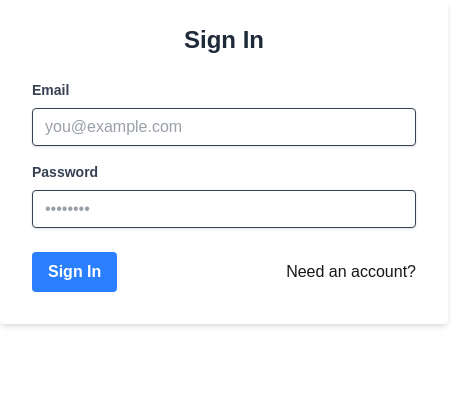
Test case: LoginForm › Error Handling › displays generic error when error has no message
Type "test@example.com" into the field labelled "Email" at [224, 127], box top-left (32, 108), bottom-right (416, 146)
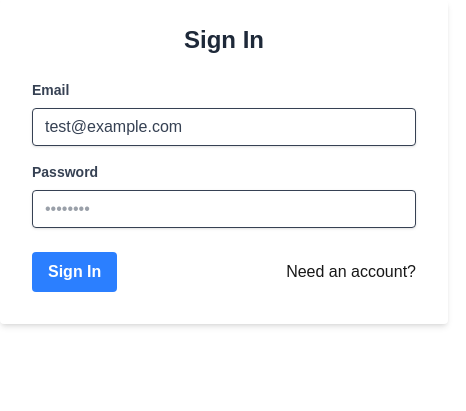
Type "password123" into the password field labelled "Password" at [224, 209], box top-left (32, 190), bottom-right (416, 228)
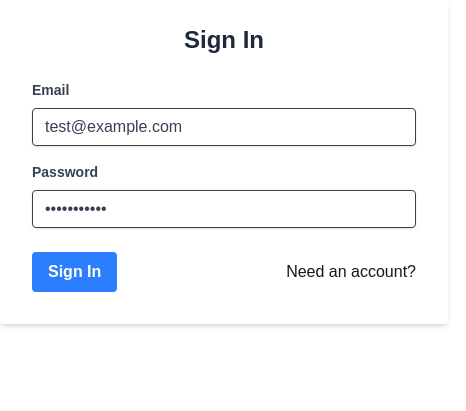
Click the button "Sign In" at [75, 272], box top-left (32, 252), bottom-right (117, 292)
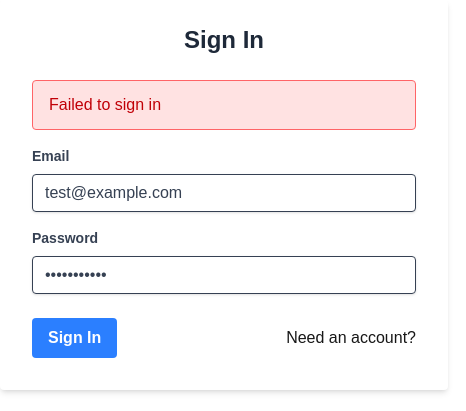
Check: the text "Failed to sign in" is shown, box top-left (32, 80), bottom-right (416, 130)
